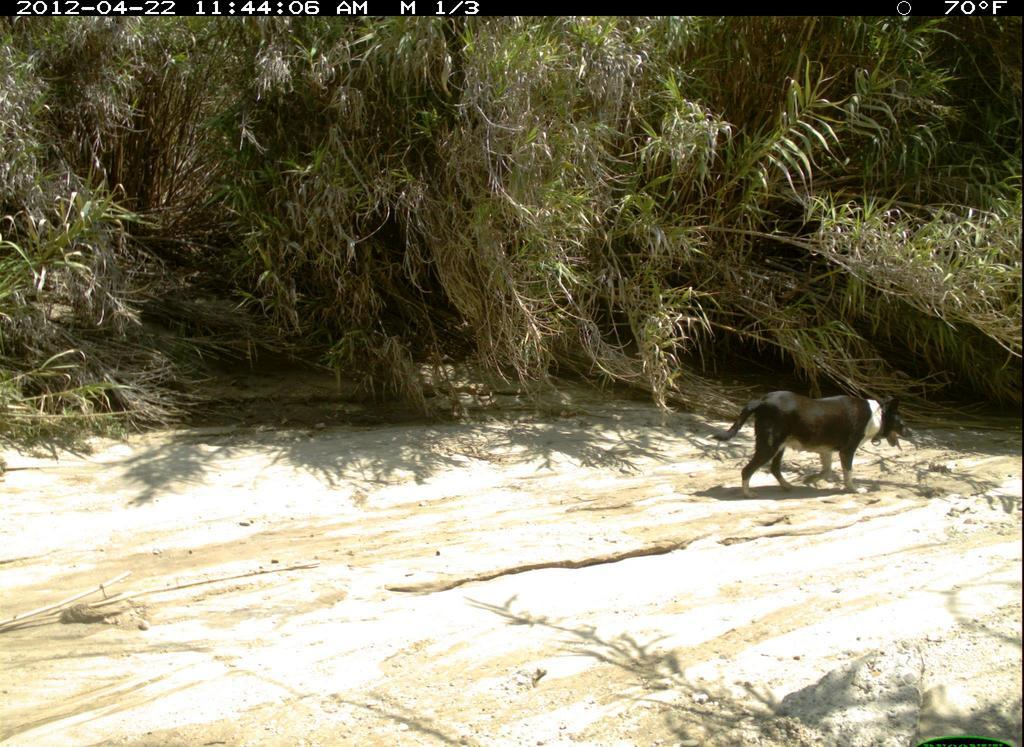dog: (708, 385, 916, 504)
